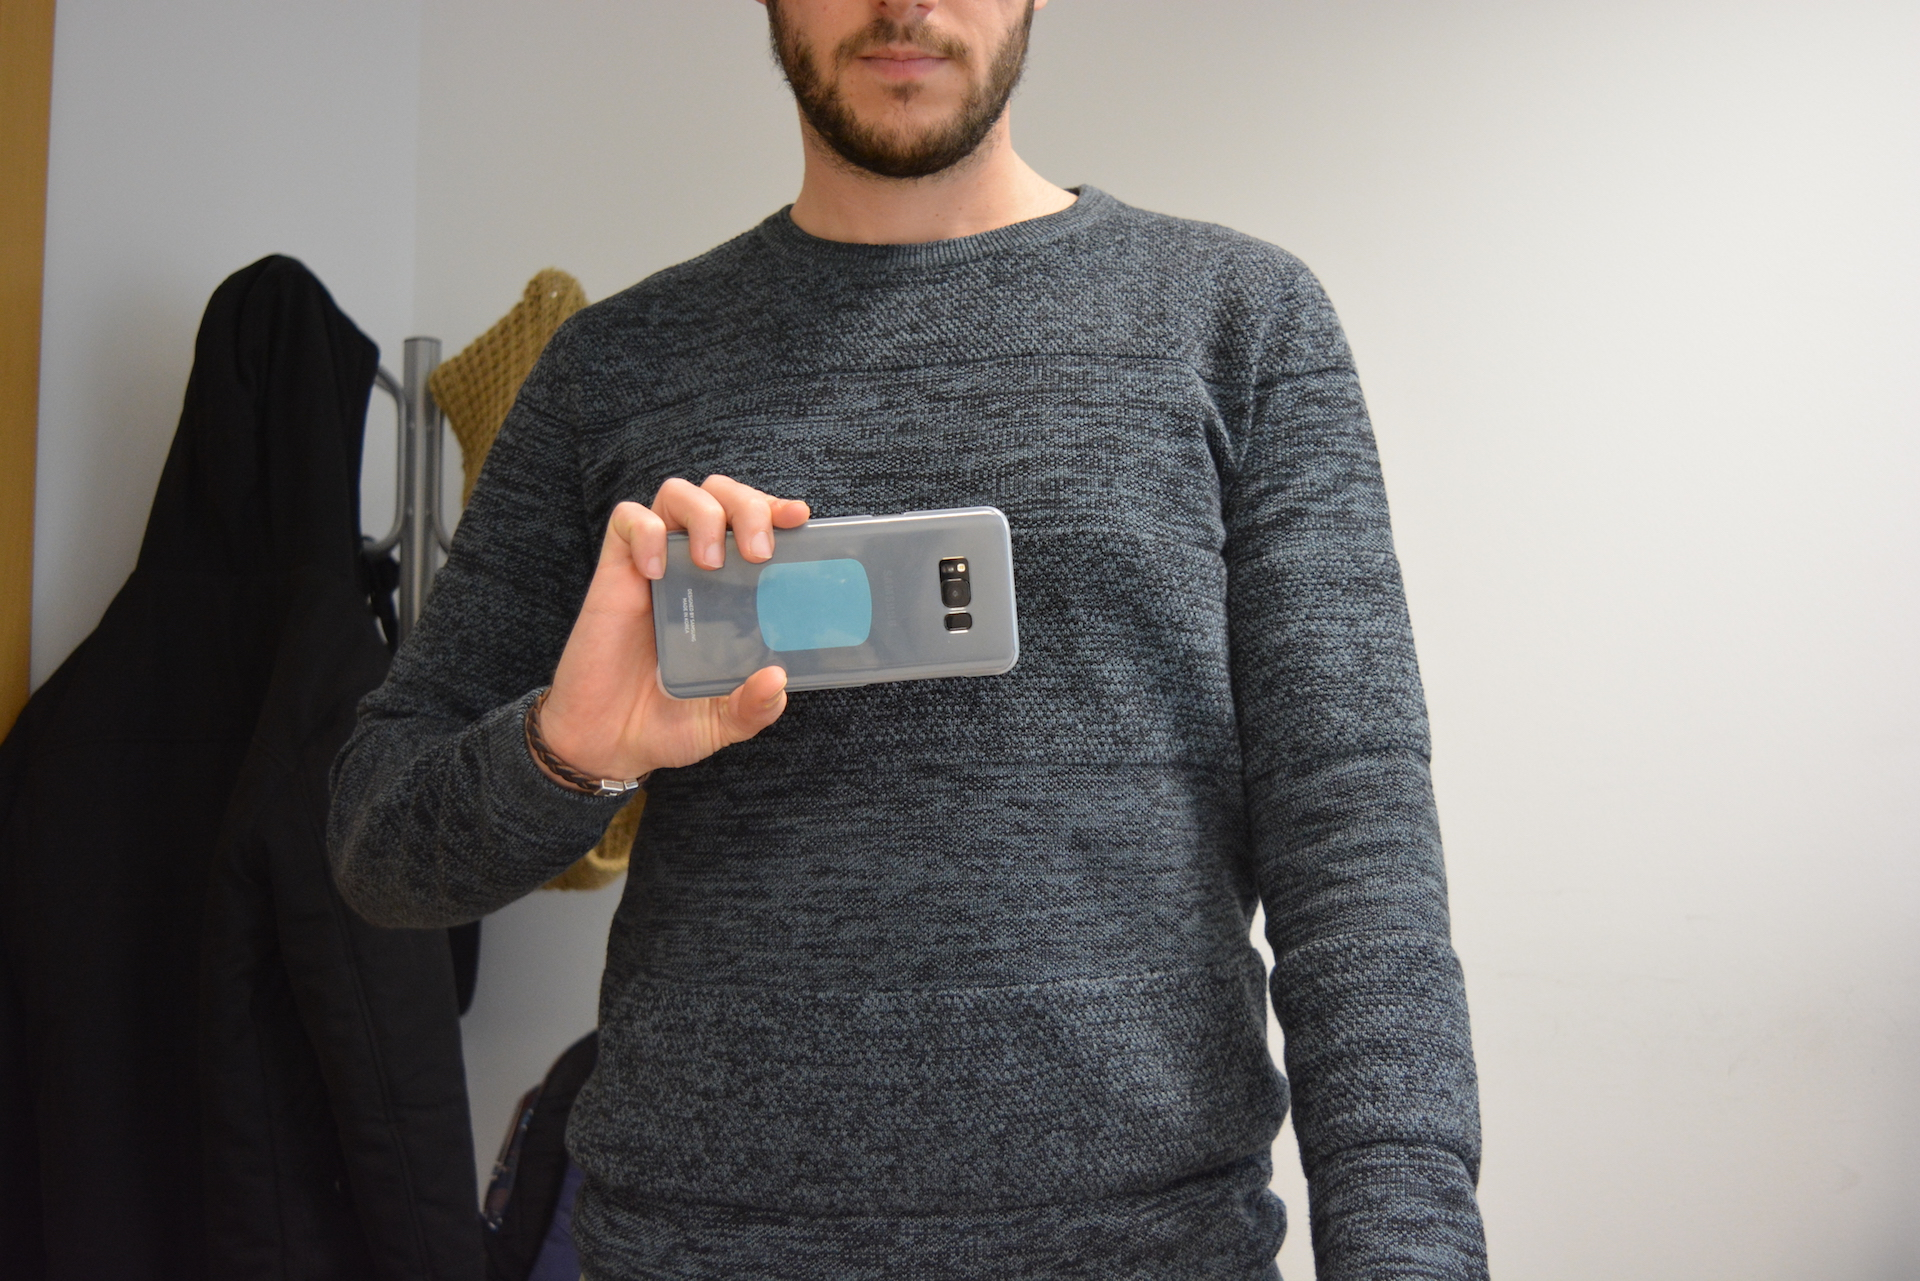smartphone: (643, 505, 1022, 703)
